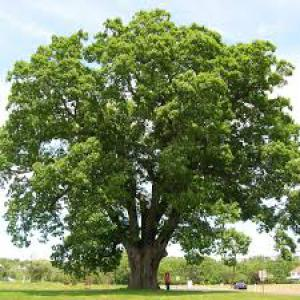Tree: (0, 4, 298, 293)
